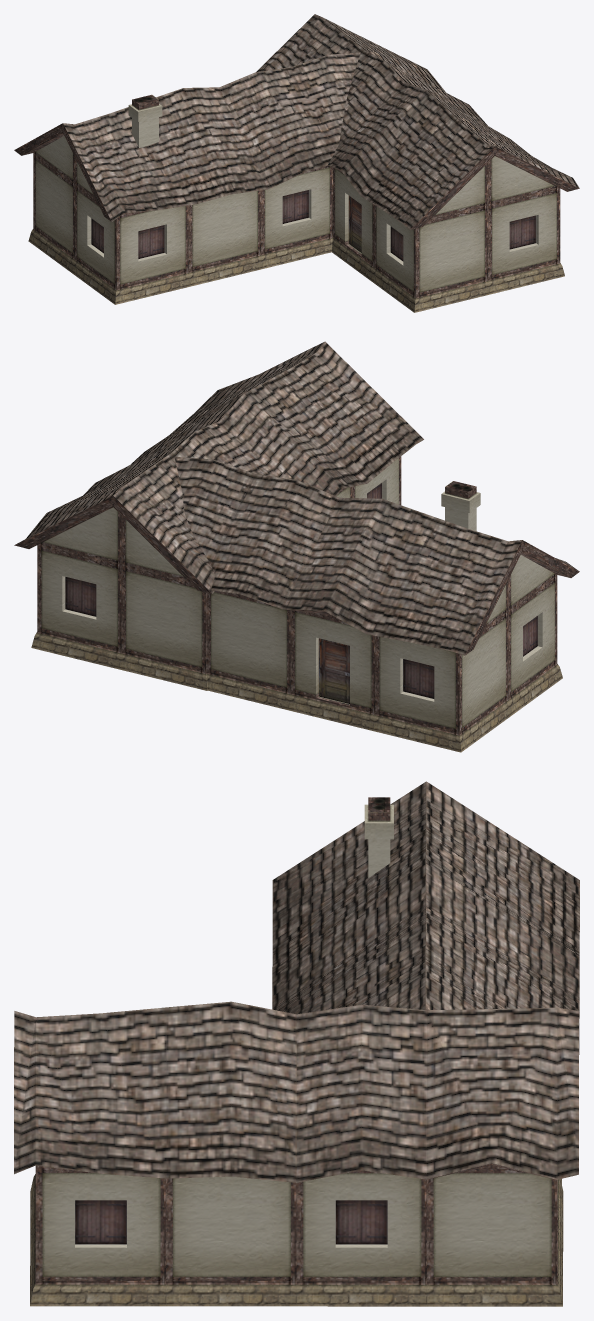
File: s44_b_house_4_4.dae
The picture shows the model from 3 angles, top to bottom: view 1: azimuth 30°, elevation 25°; view 2: azimuth 150°, elevation 25°; view 3: azimuth 270°, elevation 25°; orthographic projection. The views are drawn at different scales.
Visible parts, largest first — view 1: Untitled; view 2: Untitled; view 3: Untitled.
Part boxes in pixels (left/top/right/bottom): Untitled: left=14, top=14, right=579, bottom=312; Untitled: left=14, top=341, right=579, bottom=752; Untitled: left=14, top=781, right=579, bottom=1306.
Size of the model in its own units: 128 by 104 by 54.08.
1 material, 1 textured.
